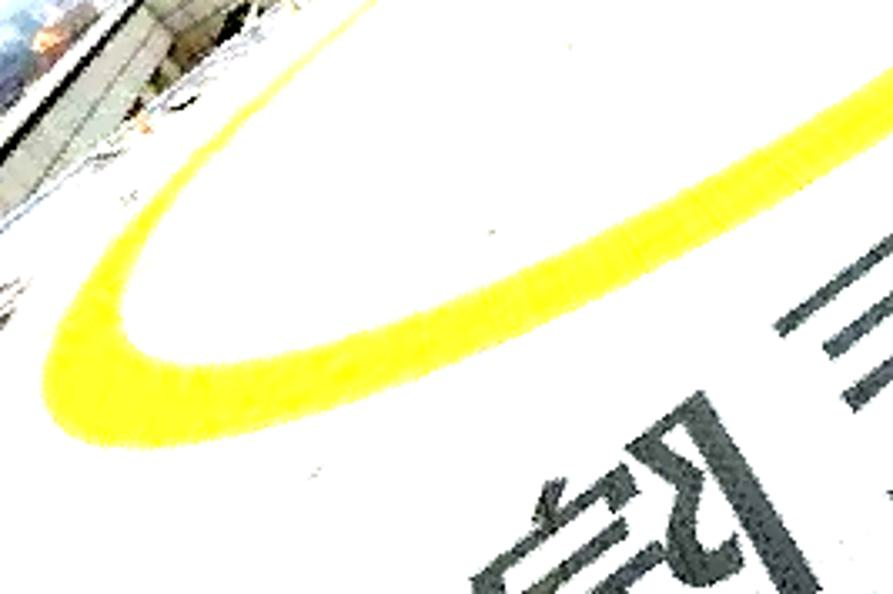Apron: (33, 1, 871, 452)
